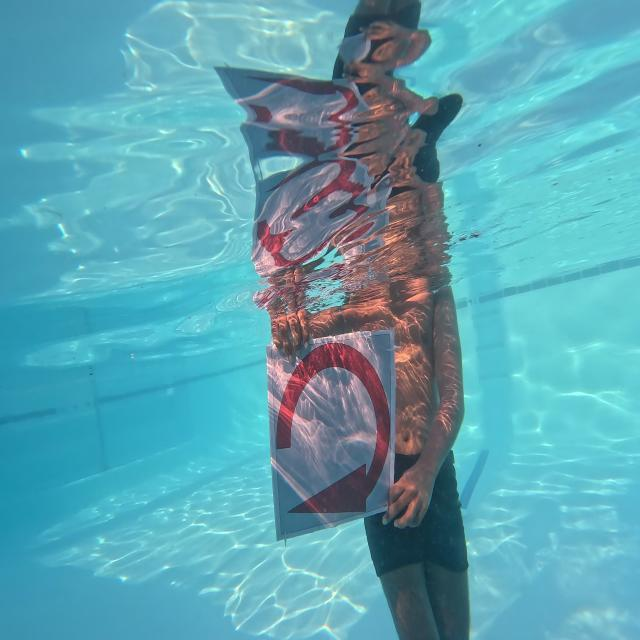red_side: (261, 344, 393, 523)
